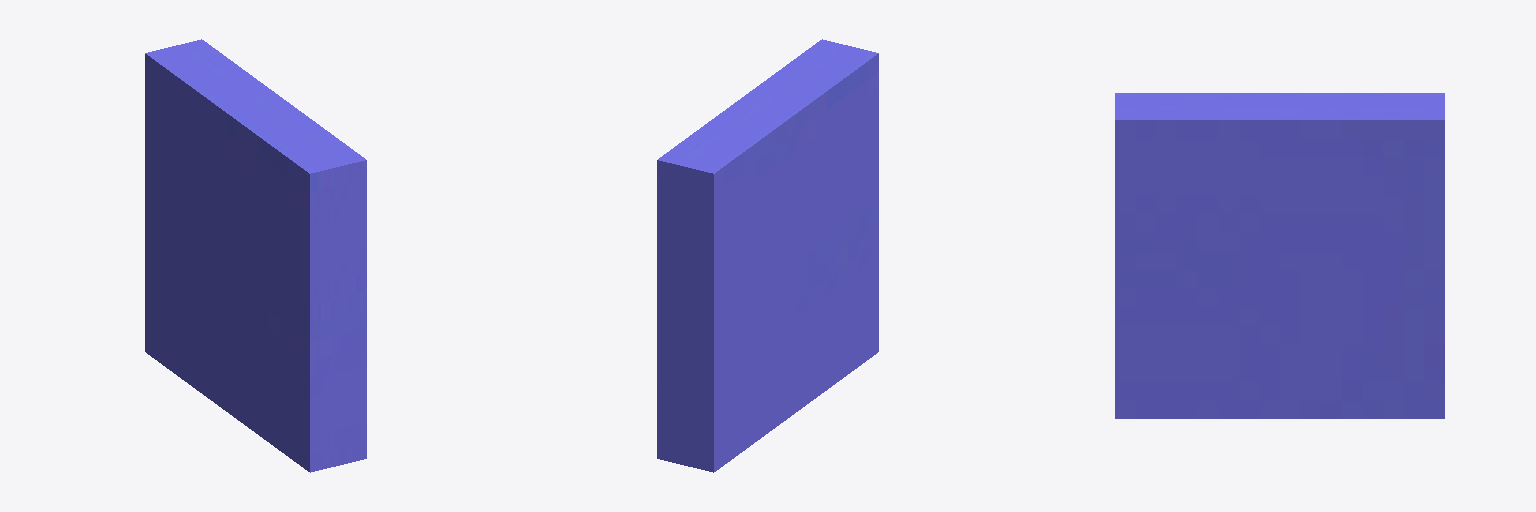
3 views of the same model, side by side, from view 1: azimuth 30°, elevation 25°; view 2: azimuth 150°, elevation 25°; view 3: azimuth 270°, elevation 25° (orthographic).
Parts seen in each view (by area): view 1: Sciana_1_Cube.002; view 2: Sciana_1_Cube.002; view 3: Sciana_1_Cube.002.
Boxes of the visible parts, box(x1,y1,x2,y2) form: Sciana_1_Cube.002: box(145, 39, 366, 472); Sciana_1_Cube.002: box(657, 39, 878, 472); Sciana_1_Cube.002: box(1115, 93, 1444, 418).
Size of the model in its own units: 1 by 5 by 5.
1 materials, 1 textured.